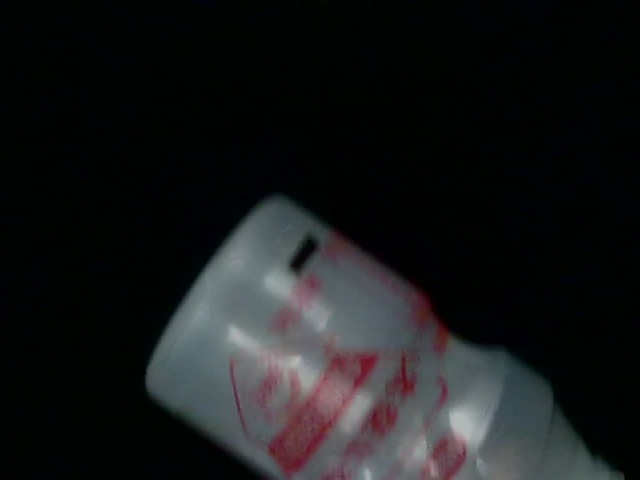CYLJ: (434, 43, 537, 151)
